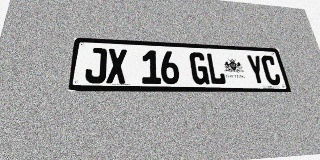1: (142, 50, 161, 84)
6: (160, 51, 180, 84)
C: (260, 55, 282, 85)
G: (189, 52, 210, 84)
J: (84, 47, 107, 83)
L: (206, 53, 227, 85)
X: (106, 48, 127, 84)
Y: (245, 55, 267, 85)
